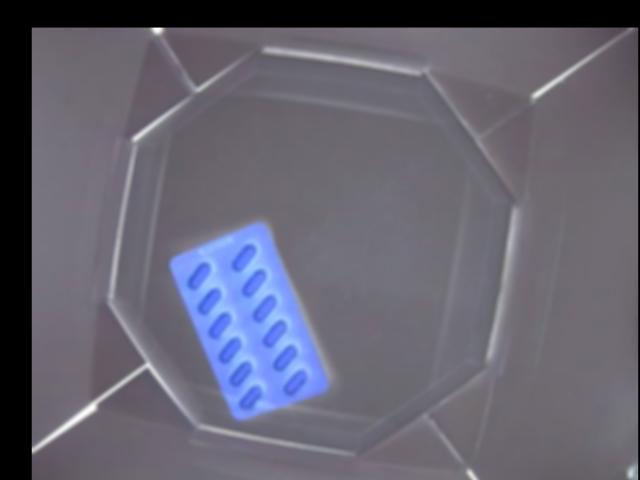Medicine: (171, 220, 331, 419)
